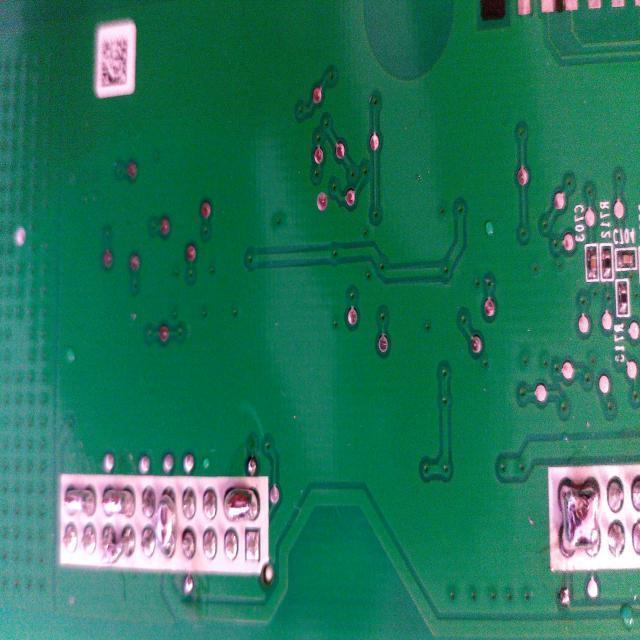Soldering shorted: (556, 466, 600, 563), (222, 486, 262, 528), (156, 491, 178, 561), (99, 484, 139, 520), (61, 482, 95, 520), (99, 528, 138, 558)
